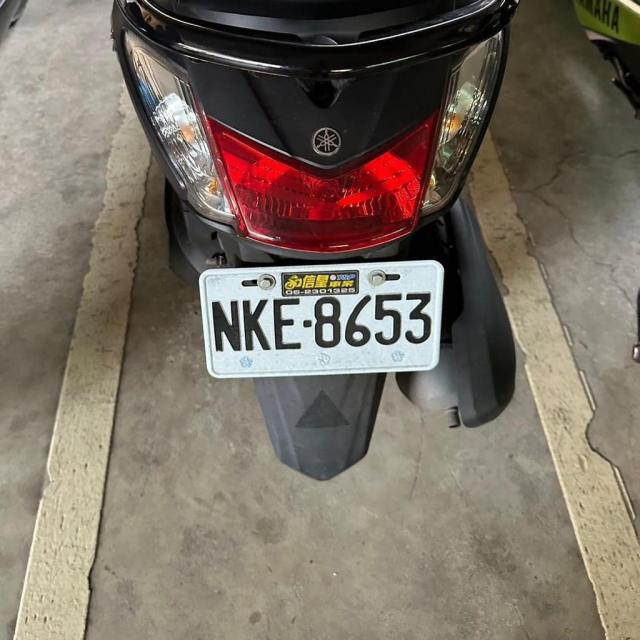W: (196, 254, 448, 383)
